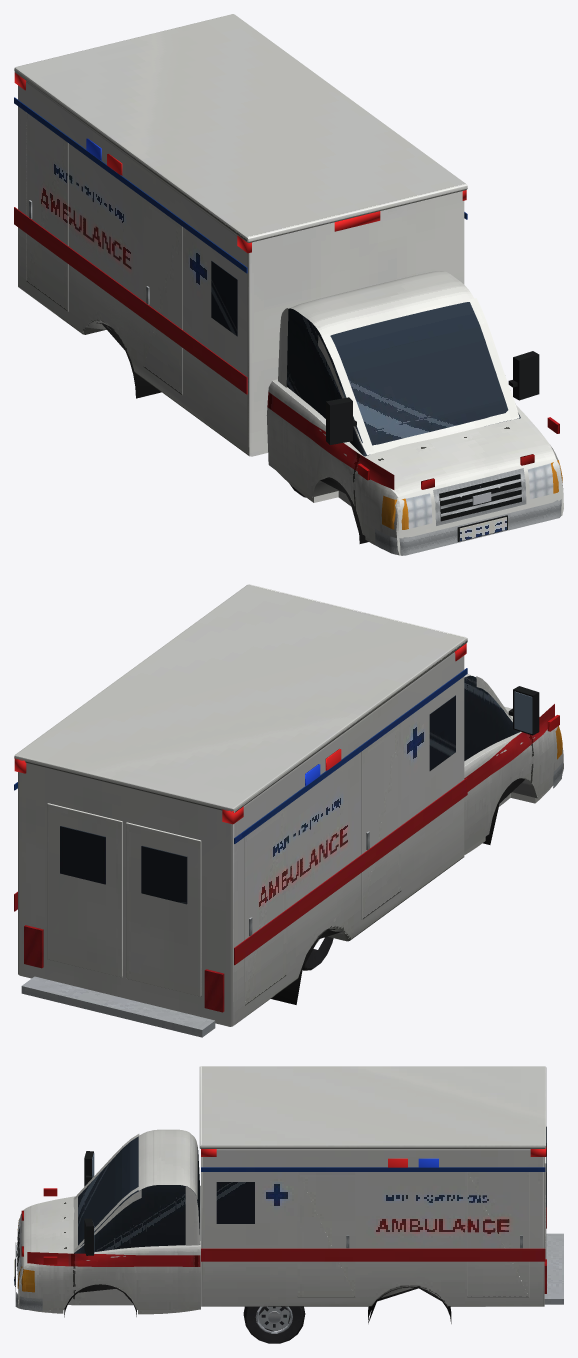
Rendered from ambulance15.glb.
3 renders of one model, top to bottom at view 1: azimuth 30°, elevation 25°; view 2: azimuth 150°, elevation 25°; view 3: azimuth 270°, elevation 25°, orthographic. The views are drawn at different scales.
Visible parts, largest first — view 1: Paint, Body, Paint_far, Body_far, BarR; view 2: Paint, Body, Paint_far, BarR, Body_far; view 3: Paint, Body, Paint_far, Wheel_far, Body_far, BarR, Wheel.
Boxes of the visible parts, bbox=[...] form: Paint: bbox=[14, 14, 563, 555]; Body: bbox=[14, 97, 562, 555]; Paint_far: bbox=[17, 15, 563, 555]; Body_far: bbox=[102, 324, 558, 553]; BarR: bbox=[14, 72, 466, 253]; Paint: bbox=[14, 584, 563, 1026]; Body: bbox=[14, 668, 562, 1037]; Paint_far: bbox=[18, 638, 563, 976]; BarR: bbox=[14, 643, 466, 824]; Body_far: bbox=[296, 704, 562, 1003]; Paint: bbox=[18, 1066, 546, 1314]; Body: bbox=[14, 1126, 563, 1323]; Paint_far: bbox=[19, 1067, 545, 1313]; Wheel_far: bbox=[245, 1306, 302, 1343]; Body_far: bbox=[15, 1171, 440, 1323]; BarR: bbox=[201, 1147, 546, 1167]; Wheel: bbox=[243, 1306, 305, 1343].
Bounding box in the file's own units: 2.45 × 3.37 × 7.12.
5 materials, 3 textured.
